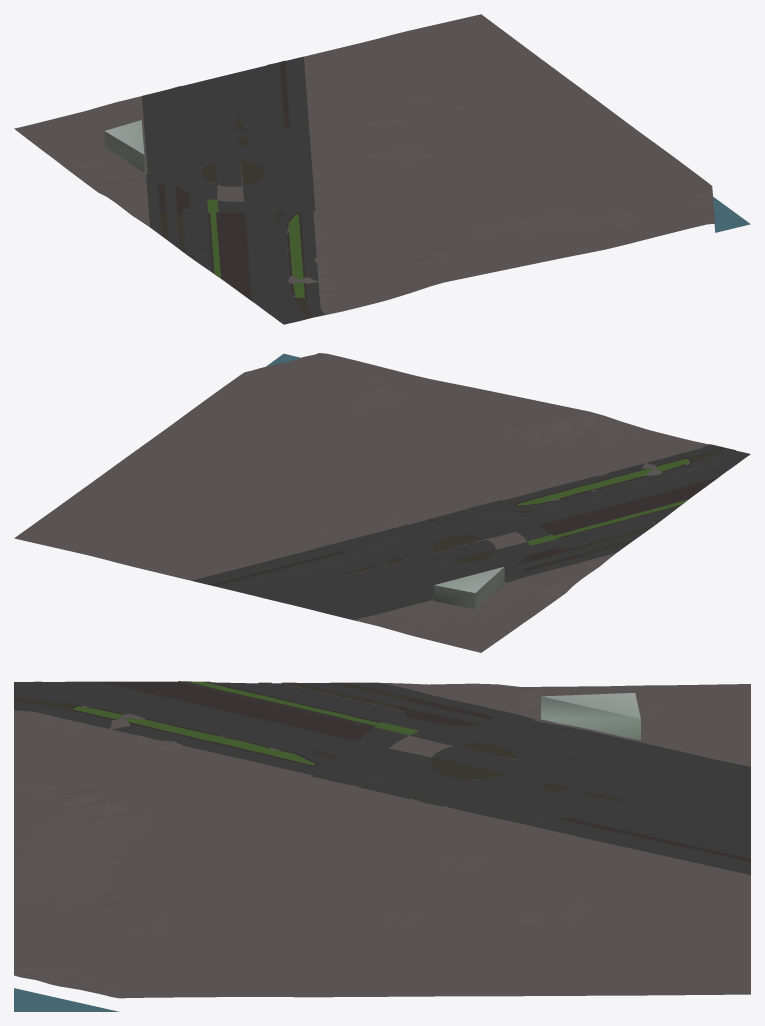
3 renders of one model, top to bottom at view 1: azimuth 30°, elevation 25°; view 2: azimuth 150°, elevation 25°; view 3: azimuth 270°, elevation 25°, orthographic. The views are drawn at different scales.
Parts seen in each view (by area): view 1: c_m14_p12; view 2: c_m14_p12; view 3: c_m14_p12.
Boxes of the visible parts, x1=… form: c_m14_p12: x1=14, y1=14, x2=750, y2=324; c_m14_p12: x1=14, y1=353, x2=750, y2=652; c_m14_p12: x1=14, y1=681, x2=750, y2=1011.
Size of the model in its own units: 128 by 7.61 by 128.
